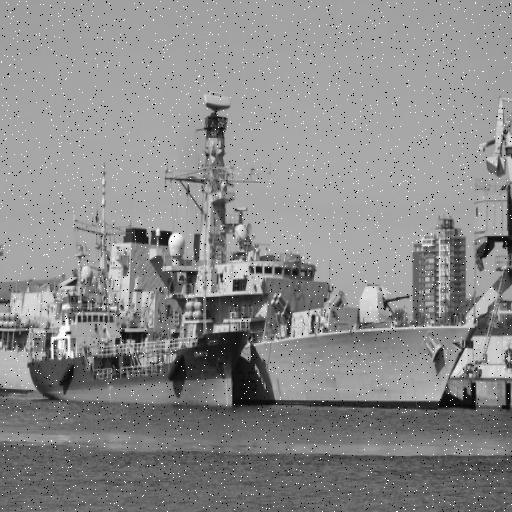Fragata: (1, 87, 483, 412)
